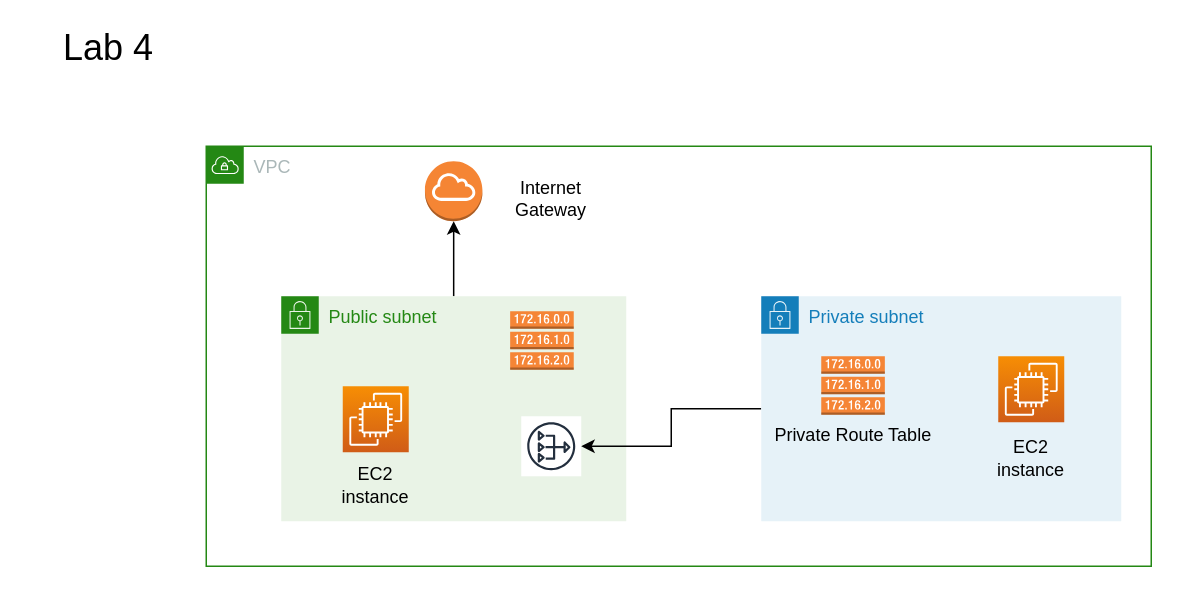
This 1178x593 diagram has some shape labels left out. The shapes that lost their labels are listed below. From the top down, each one's centre as x and y in pixels, then its label:
At (541,340): "Public Route Table".
At (550,445): "NAT gateway".
